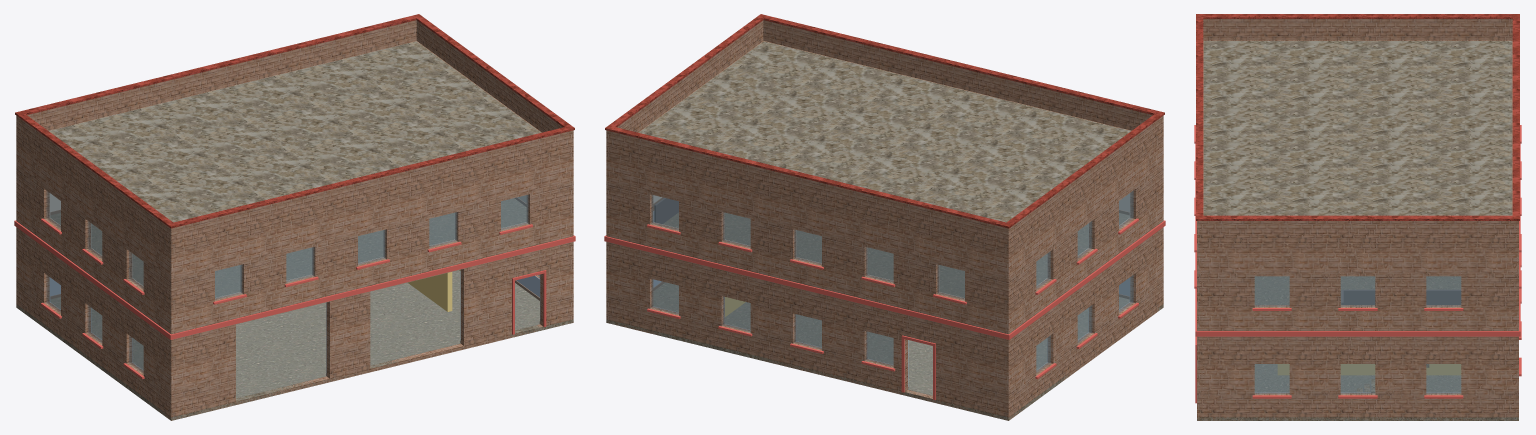
The model's file is crash-station.loc-v1.lod0.glb.
3 renders of one model, left to right at view 1: azimuth 30°, elevation 25°; view 2: azimuth 150°, elevation 25°; view 3: azimuth 270°, elevation 25°, orthographic. The views are drawn at different scales.
Visible parts, largest first — view 1: crash-station; view 2: crash-station; view 3: crash-station.
Part boxes in pixels (x1,y1,x2,y2): crash-station: [14, 14, 575, 420]; crash-station: [604, 14, 1165, 420]; crash-station: [1194, 14, 1521, 420].
Bounding box in the file's own units: 18.2 × 8.33 × 12.2.
Materials: 5 (3 with a texture image).
